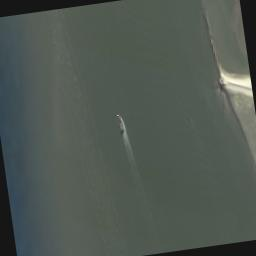boat: (117, 113, 124, 130)
